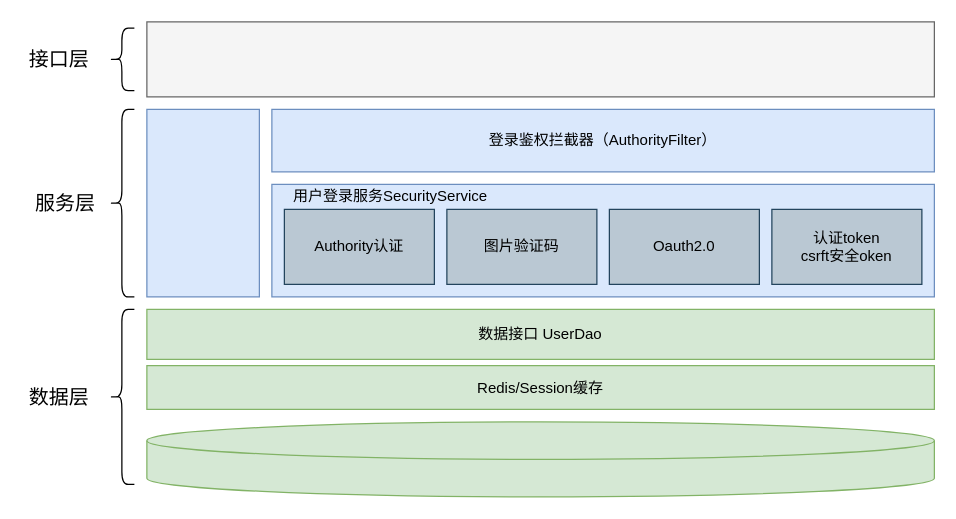
Image size: 956x519. Some labels were removed from this diagram. Each missing label, with the centre of its shape:
SpringSecurity Config 框架配置: (x=202, y=202)
用户数据 User DB: (x=540, y=459)
用户登录接口UserAccountController: (x=540, y=59)
